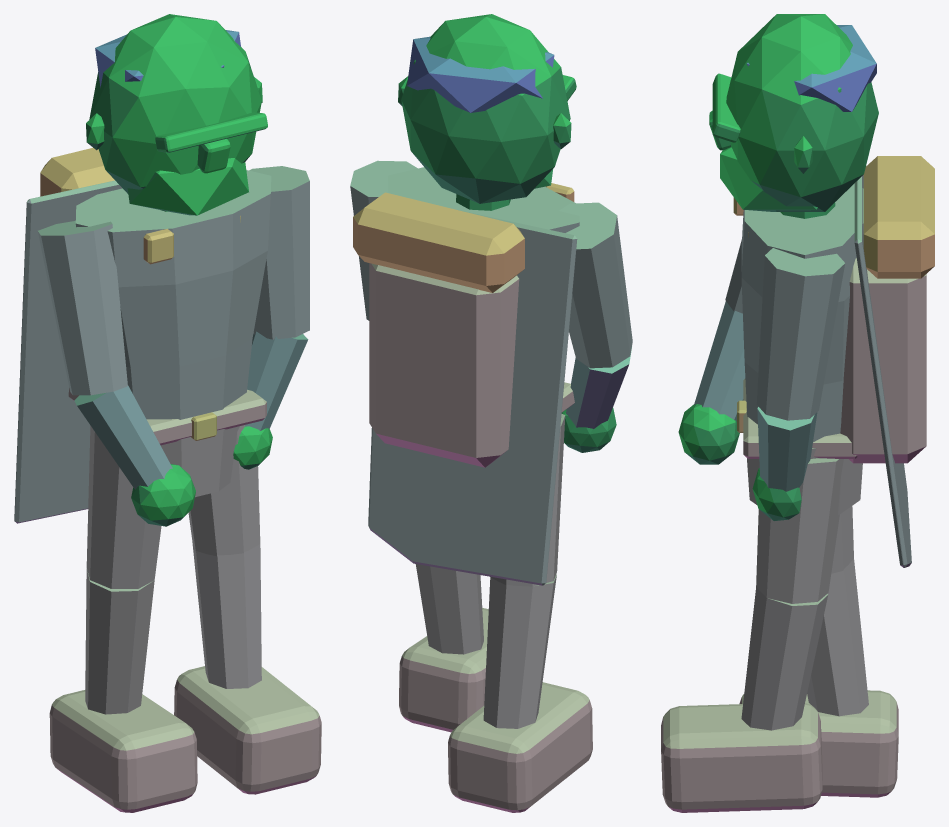
File: npc_refugee_up_l_v01.glb
3 views of the same model, side by side, from view 1: azimuth 30°, elevation 25°; view 2: azimuth 150°, elevation 25°; view 3: azimuth 270°, elevation 25° (orthographic). The views are drawn at different scales.
Visible parts, largest first — view 1: GEO_npc_refugee_up_l_v01; view 2: GEO_npc_refugee_up_l_v01; view 3: GEO_npc_refugee_up_l_v01.
Boxes of the visible parts, <box> form: GEO_npc_refugee_up_l_v01: <box>14,14,321,812</box>; GEO_npc_refugee_up_l_v01: <box>350,14,632,812</box>; GEO_npc_refugee_up_l_v01: <box>661,14,934,812</box>.
Bounding box in the file's own units: 0.7519 × 2.08 × 0.6538.
